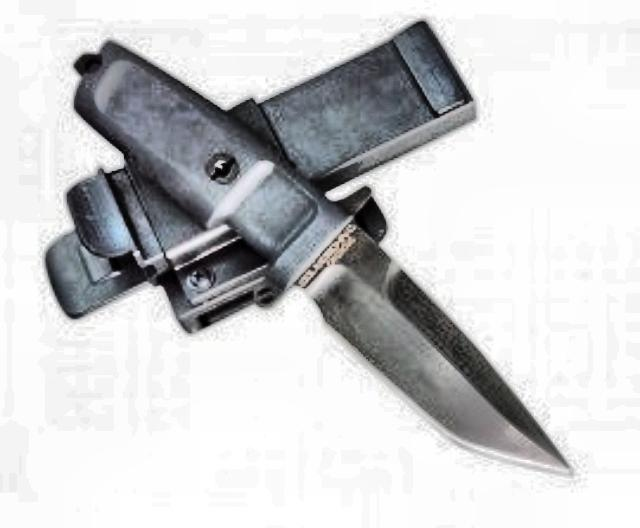knife: (284, 212, 578, 478)
